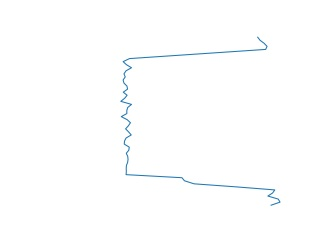distributaryChannelFill: (116, 34, 288, 209)
